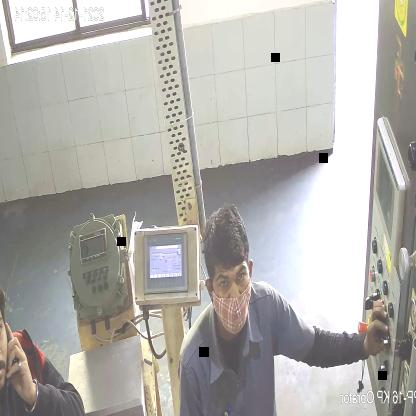no_goggles: (213, 266, 248, 300)
